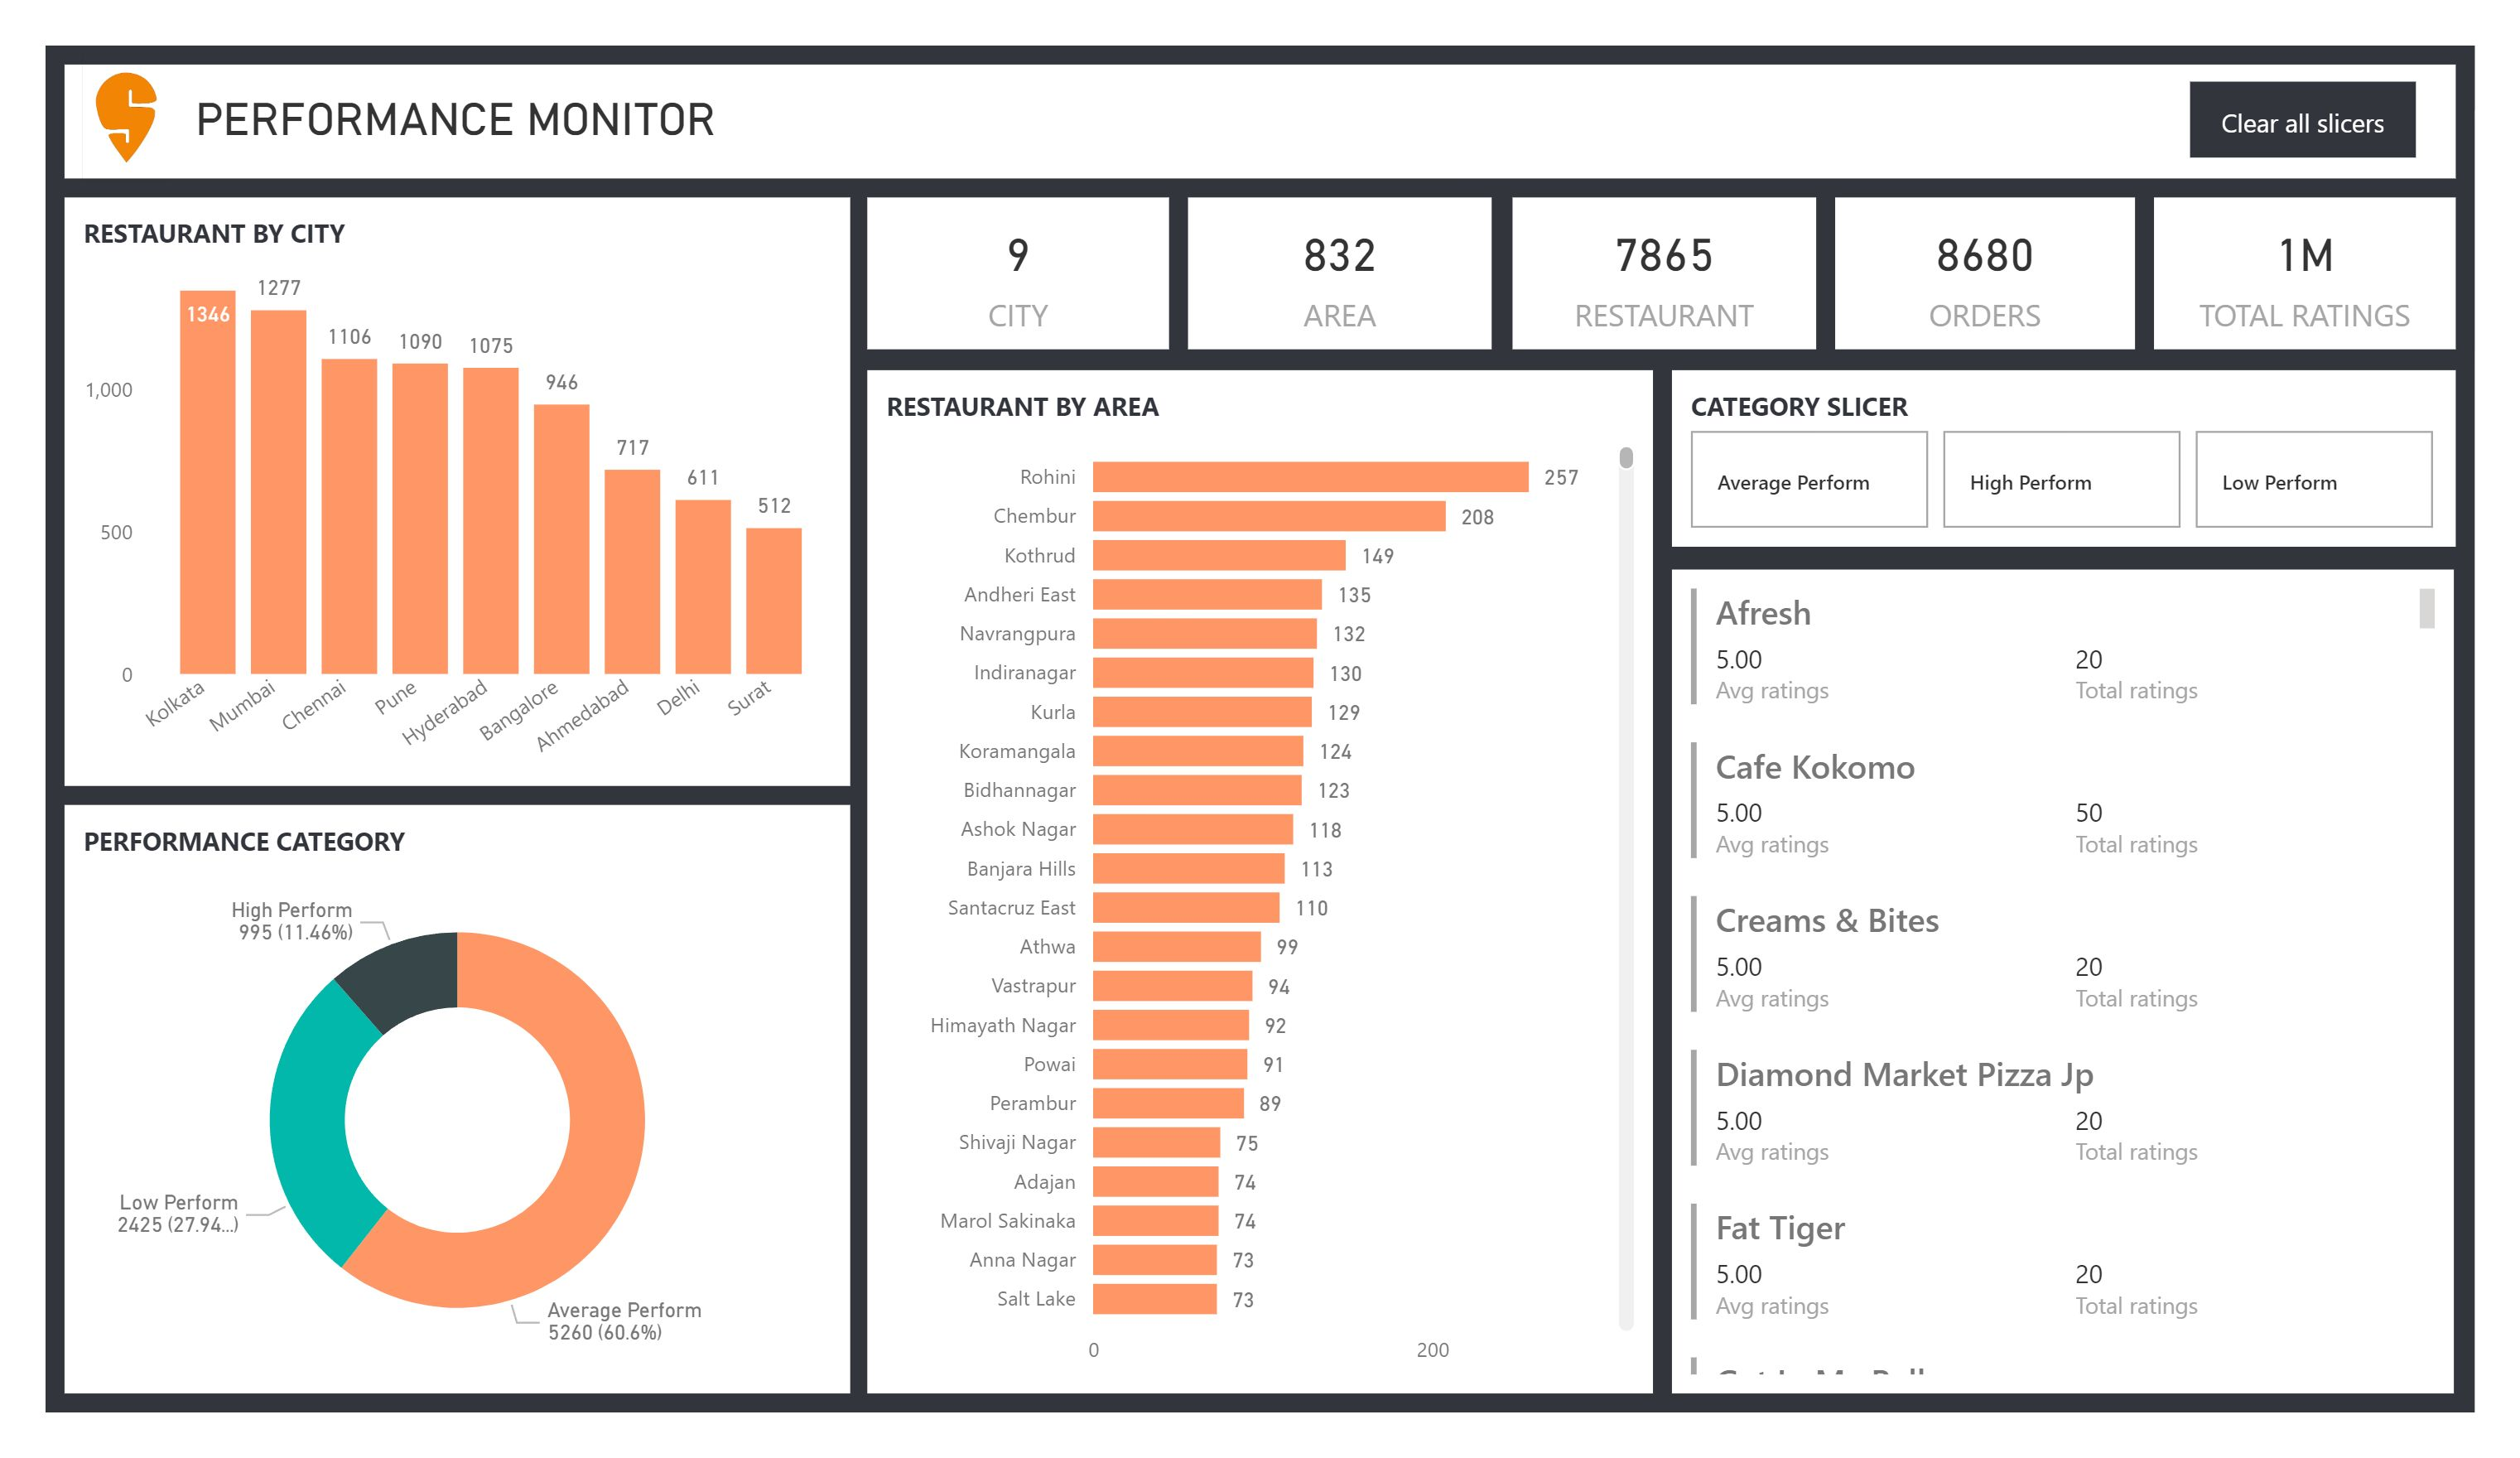

What the dashboard file says about the page in this screenshot:
{"tool":"powerbi","page":{"name":"PERFORMANCE MONITOR","canvas":[1280,720],"ordinal":0},"visuals":[{"type":"columnChart","title":"RESTAURANT BY CITY","fields":{"Category":["Project_Swiggy_Analysis.City"],"Y":["CountNonNull(Project_Swiggy_Analysis.Restaurant)"]},"box":[10,80,413.6,310],"z":0},{"type":"shape","box":[10,10,1260,60],"z":1000},{"type":"card","fields":{"Values":["Count(Project_Swiggy_Analysis.ID)"]},"box":[942.5,80,158.5,80],"z":2000},{"type":"textbox","box":[74.4,20,300.3,42.9],"z":3000},{"type":"card","fields":{"Values":["Count(Project_Swiggy_Analysis.Area)"]},"box":[602.2,80,160,80],"z":4000},{"type":"image","box":[0,0,83.8,76.2],"z":5000},{"type":"card","fields":{"Values":["Count(Project_Swiggy_Analysis.City)"]},"box":[432.9,80,159,80],"z":6000},{"type":"card","fields":{"Values":["Count(Project_Swiggy_Analysis.Restaurant)"]},"box":[773,80,160,80],"z":7000},{"type":"donutChart","title":"PERFORMANCE CATEGORY","fields":{"Y":["CountNonNull(Project_Swiggy_Analysis.Restaurant)"],"Category":["Project_Swiggy_Analysis.Performance Category"]},"box":[10,400,413.6,310],"z":8000},{"type":"actionButton","box":[1129.8,18.6,118.7,40],"z":9000},{"type":"card","fields":{"Values":["Sum(Project_Swiggy_Analysis.Total ratings)"]},"box":[1111.2,80,158.8,80],"z":10000},{"type":"barChart","title":"RESTAURANT BY AREA","fields":{"Category":["Project_Swiggy_Analysis.Area"],"Y":["CountNonNull(Project_Swiggy_Analysis.Restaurant)"]},"box":[432.9,171.4,414.3,538.6],"z":16000},{"type":"advancedSlicerVisual","title":"CATEGORY SLICER","fields":{"Values":["Project_Swiggy_Analysis.Category"]},"box":[856.7,171.1,413.3,93.3],"z":17000},{"type":"multiRowCard","title":"RESTAURANT DETAILS","fields":{"Values":["Project_Swiggy_Analysis.Restaurant","Project_Swiggy_Analysis.Avg ratings","Project_Swiggy_Analysis.Total ratings"]},"box":[856.7,276.3,412.4,434],"z":18000}]}

Visuals, with their boxes in screenshot pixels (x1, y1, x2, y2), scaled from the page's 1280x720 canvas onto the 2520x1458 screenshot:
"RESTAURANT BY CITY" columnChart: select_region(20, 162, 834, 789)
shape: select_region(20, 20, 2500, 142)
card - Count(Project_Swiggy_Analysis.ID): select_region(1856, 162, 2167, 324)
textbox: select_region(147, 41, 738, 128)
card - Count(Project_Swiggy_Analysis.Area): select_region(1186, 162, 1501, 324)
image: select_region(0, 0, 165, 154)
card - Count(Project_Swiggy_Analysis.City): select_region(852, 162, 1165, 324)
card - Count(Project_Swiggy_Analysis.Restaurant): select_region(1522, 162, 1837, 324)
"PERFORMANCE CATEGORY" donutChart: select_region(20, 810, 834, 1438)
actionButton: select_region(2224, 37, 2458, 118)
card - Sum(Project_Swiggy_Analysis.Total ratings): select_region(2188, 162, 2500, 324)
"RESTAURANT BY AREA" barChart: select_region(852, 347, 1668, 1438)
"CATEGORY SLICER" advancedSlicerVisual: select_region(1687, 346, 2500, 535)
"RESTAURANT DETAILS" multiRowCard: select_region(1687, 559, 2498, 1438)
